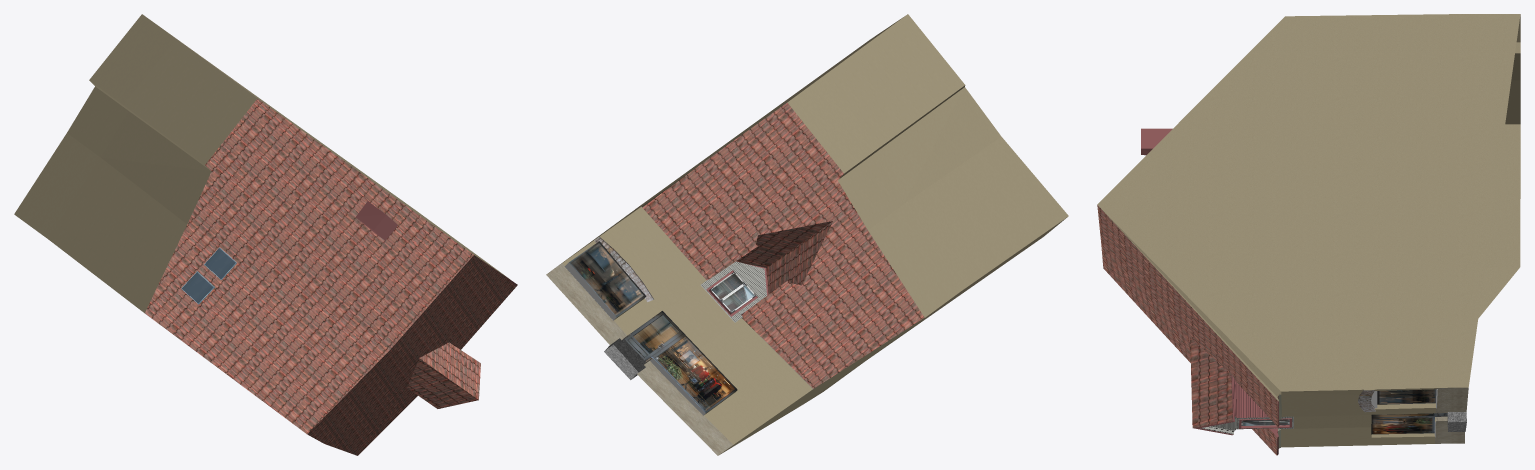
File: Myyrivahe_23.obj
The picture shows the model from 3 angles, left to right: view 1: azimuth 30°, elevation 25°; view 2: azimuth 150°, elevation 25°; view 3: azimuth 270°, elevation 25°; orthographic projection. The views are drawn at different scales.
Parts seen in each view (by area): view 1: Myyrivahe_23; view 2: Myyrivahe_23; view 3: Myyrivahe_23.
Boxes of the visible parts, x1=… form: Myyrivahe_23: x1=14, y1=14, x2=517, y2=455; Myyrivahe_23: x1=546, y1=14, x2=1068, y2=455; Myyrivahe_23: x1=1097, y1=14, x2=1520, y2=455.
Size of the model in its own units: 14.84 by 13.86 by 13.55.
